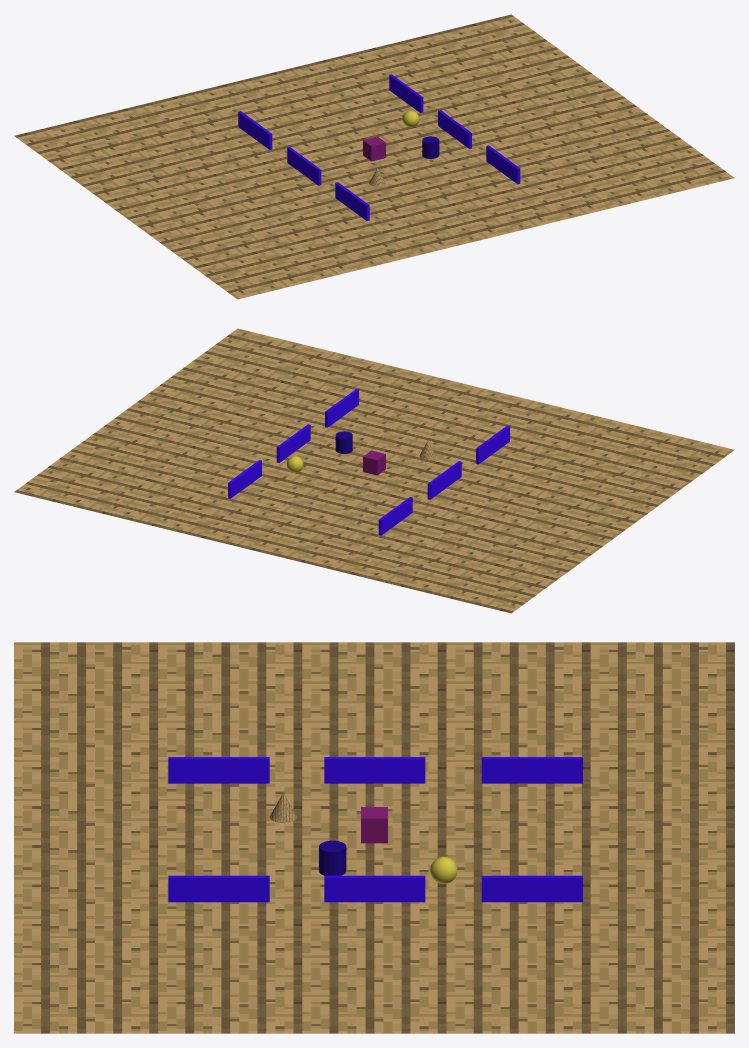
3 renders of one model, top to bottom at view 1: azimuth 30°, elevation 25°; view 2: azimuth 150°, elevation 25°; view 3: azimuth 270°, elevation 25°, orthographic. The views are drawn at different scales.
Visible parts, largest first — view 1: Plane, Cube004.001, Cube003.001, Cube004, Cube002, Cube003, Cube002.001, Cube.001; view 2: Plane, Cube002.001, Cube002, Cube003, Cube003.001, Cube004.001, Cube004, Cube.001; view 3: Plane, Cube004.001, Cube003.001, Cube002.001, Cube002, Cube003, Cube004, Cube.001, Cylinder.
Boxes of the visible parts, x1,y1,x2,y2 form: Plane: (14, 14, 734, 299); Cube004.001: (486, 145, 520, 184); Cube003.001: (389, 74, 423, 113); Cube004: (335, 182, 369, 220); Cube002: (287, 147, 321, 185); Cube003: (238, 111, 272, 149); Cube002.001: (438, 110, 471, 148); Cube.001: (363, 136, 385, 161); Plane: (14, 328, 734, 613); Cube002.001: (276, 424, 310, 462); Cube002: (427, 461, 461, 499); Cube003: (378, 497, 412, 535); Cube003.001: (228, 460, 261, 498); Cube004.001: (325, 389, 358, 427); Cube004: (476, 425, 509, 464); Cube.001: (363, 450, 385, 475); Plane: (14, 642, 734, 1033); Cube004.001: (168, 875, 269, 902); Cube003.001: (481, 875, 582, 902); Cube002.001: (324, 875, 425, 902); Cube002: (324, 757, 425, 783); Cube003: (481, 757, 582, 783); Cube004: (168, 757, 269, 783); Cube.001: (361, 807, 387, 843); Cylinder: (319, 840, 346, 875).
Bounding box in the file's own units: 67.86 × 2.08 × 52.82.
Materials: 5 (1 with a texture image).
